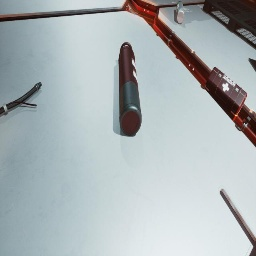0: (176, 1, 184, 24)
FirstAidBox ,: (204, 67, 247, 121)
NitrogenTank ,: (118, 42, 142, 136)
